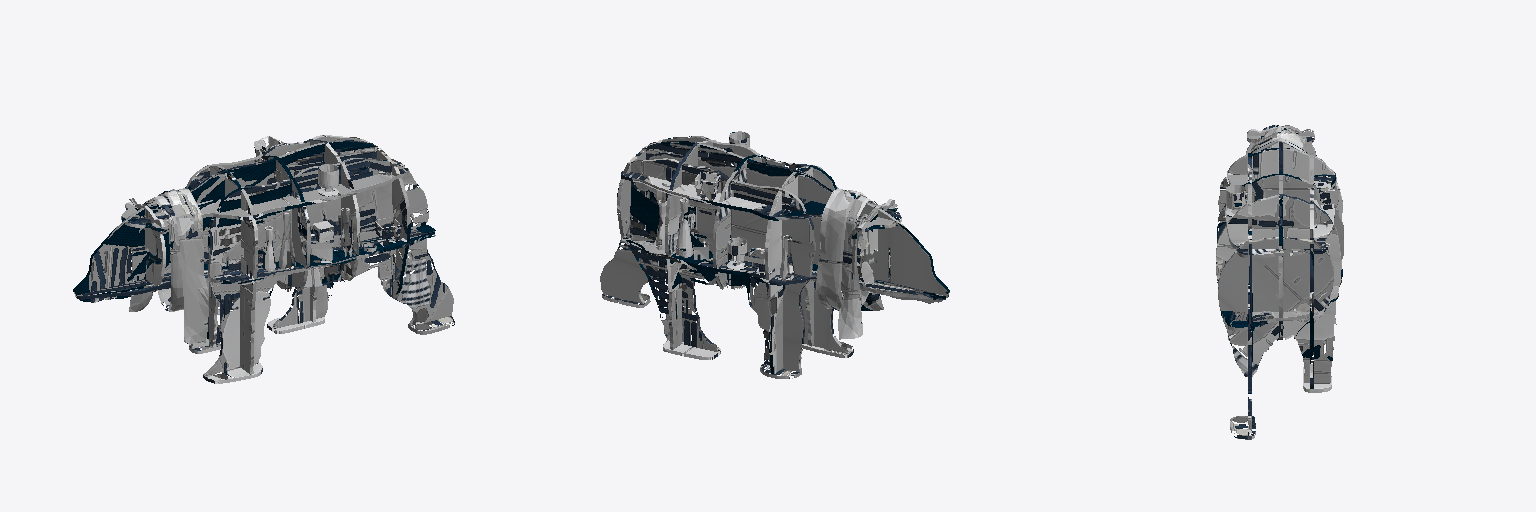
The picture shows the model from 3 angles: view 1: azimuth 30°, elevation 25°; view 2: azimuth 150°, elevation 25°; view 3: azimuth 270°, elevation 25°; orthographic projection.
Parts seen in each view (by area): view 1: solid_010, solid_001, solid_007, glass_001, solid_003, solid_008; view 2: solid_010, solid_001, solid_007, glass_001, solid_008; view 3: solid_010, solid_001, glass_001, solid_007.
Boxes of the visible parts, box(x1,y1,x2,y2) form: solid_010: box(75, 135, 453, 383); solid_001: box(73, 135, 454, 383); solid_007: box(129, 188, 208, 343); glass_001: box(254, 136, 401, 246); solid_003: box(310, 221, 333, 262); solid_008: box(279, 210, 295, 268); solid_010: box(600, 136, 947, 378); solid_001: box(602, 136, 949, 378); solid_007: box(817, 189, 883, 339); glass_001: box(695, 131, 749, 269); solid_008: box(676, 198, 692, 257); solid_010: box(1216, 125, 1343, 435); solid_001: box(1216, 125, 1343, 439); glass_001: box(1226, 181, 1340, 216); solid_007: box(1248, 127, 1307, 181).
Size of the model in its own units: 1.55 by 0.7846 by 0.4765.
Materials: 1 (1 with a texture image).